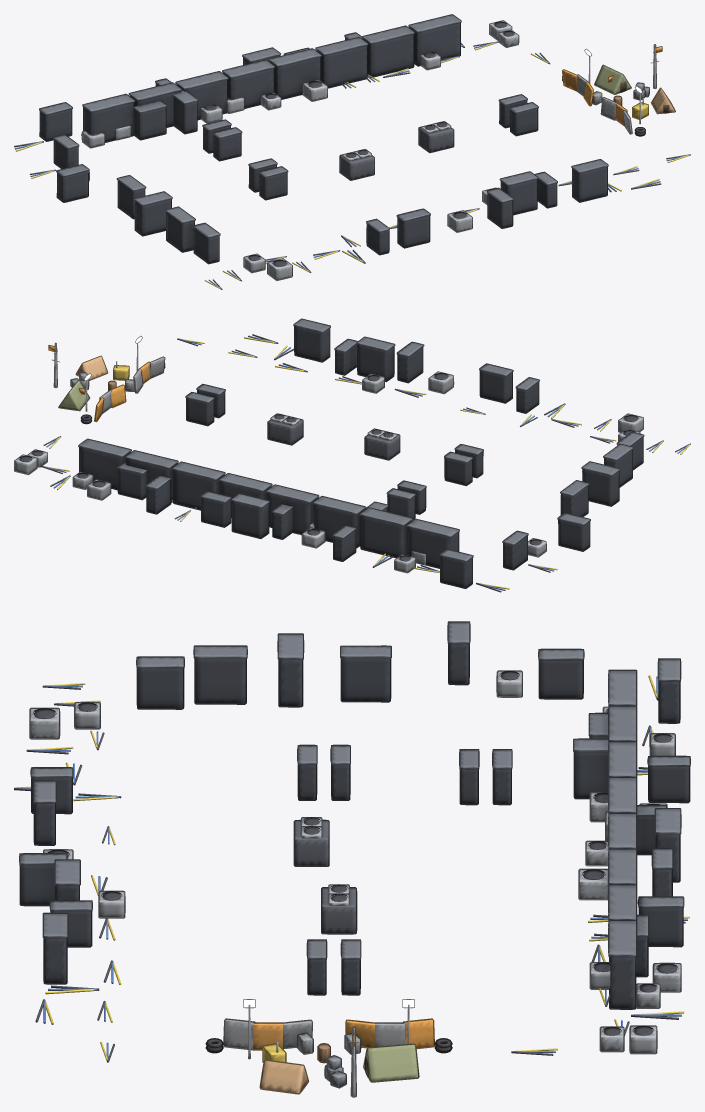
File: server_hall.glb
3 renders of one model, top to bottom at view 1: azimuth 30°, elevation 25°; view 2: azimuth 150°, elevation 25°; view 3: azimuth 270°, elevation 25°, orthographic. The views are drawn at different scales.
Parts seen in each view (by area): view 1: Baked_metal, Baked_matte, Baked_metal_Outline, Baked_matte_Outline, Baked_satin; view 2: Baked_metal, Baked_matte, Baked_metal_Outline, Baked_matte_Outline, Baked_satin, Baked_satin_Outline; view 3: Baked_metal, Baked_matte, Baked_metal_Outline, Baked_satin, Baked_matte_Outline, Baked_satin_Outline.
Part boxes in pixels (<box>): Baked_metal: <box>39,15,659,263</box>; Baked_matte: <box>14,21,690,289</box>; Baked_metal_Outline: <box>39,14,656,264</box>; Baked_matte_Outline: <box>81,20,675,280</box>; Baked_satin: <box>87,22,661,266</box>; Baked_metal: <box>52,319,643,588</box>; Baked_matte: <box>14,334,690,592</box>; Baked_metal_Outline: <box>53,318,644,588</box>; Baked_matte_Outline: <box>14,355,643,573</box>; Baked_satin: <box>19,345,637,561</box>; Baked_satin_Outline: <box>19,345,638,558</box>; Baked_metal: <box>20,622,689,1096</box>; Baked_matte: <box>14,671,689,1093</box>; Baked_metal_Outline: <box>19,621,690,1097</box>; Baked_satin: <box>34,672,677,1049</box>; Baked_matte_Outline: <box>29,670,681,1094</box>; Baked_satin_Outline: <box>33,670,678,1050</box>.
Size of the model in its own units: 41.54 by 3.1 by 27.21.
